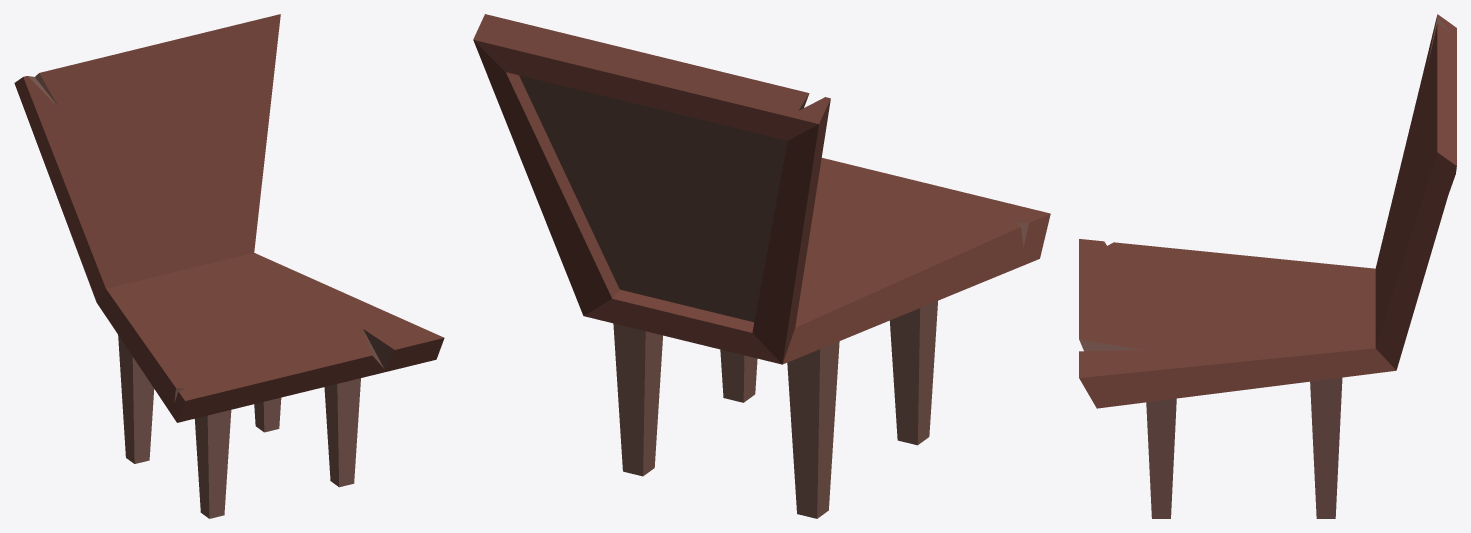
File: Chair_2_Red.fbx
3 renders of one model, left to right at view 1: azimuth 30°, elevation 25°; view 2: azimuth 150°, elevation 25°; view 3: azimuth 270°, elevation 25°, orthographic. The views are drawn at different scales.
Visible parts, largest first — view 1: Chair_2_Red_Part_1, Chair_2_Red_Part_2; view 2: Chair_2_Red_Part_1, Chair_2_Red_Part_2; view 3: Chair_2_Red_Part_1, Chair_2_Red_Part_2.
Part boxes in pixels (left/top/right/bottom): Chair_2_Red_Part_1: left=14, top=14, right=444, bottom=422; Chair_2_Red_Part_2: left=28, top=73, right=394, bottom=518; Chair_2_Red_Part_1: left=473, top=14, right=1050, bottom=364; Chair_2_Red_Part_2: left=519, top=75, right=1028, bottom=518; Chair_2_Red_Part_1: left=1079, top=14, right=1456, bottom=408; Chair_2_Red_Part_2: left=1079, top=16, right=1450, bottom=518.
Size of the model in its own units: 60 by 79.77 by 68.81.
